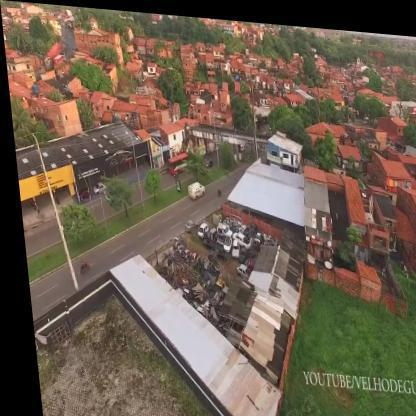lixo: (196, 211, 258, 259), (162, 246, 215, 302)
